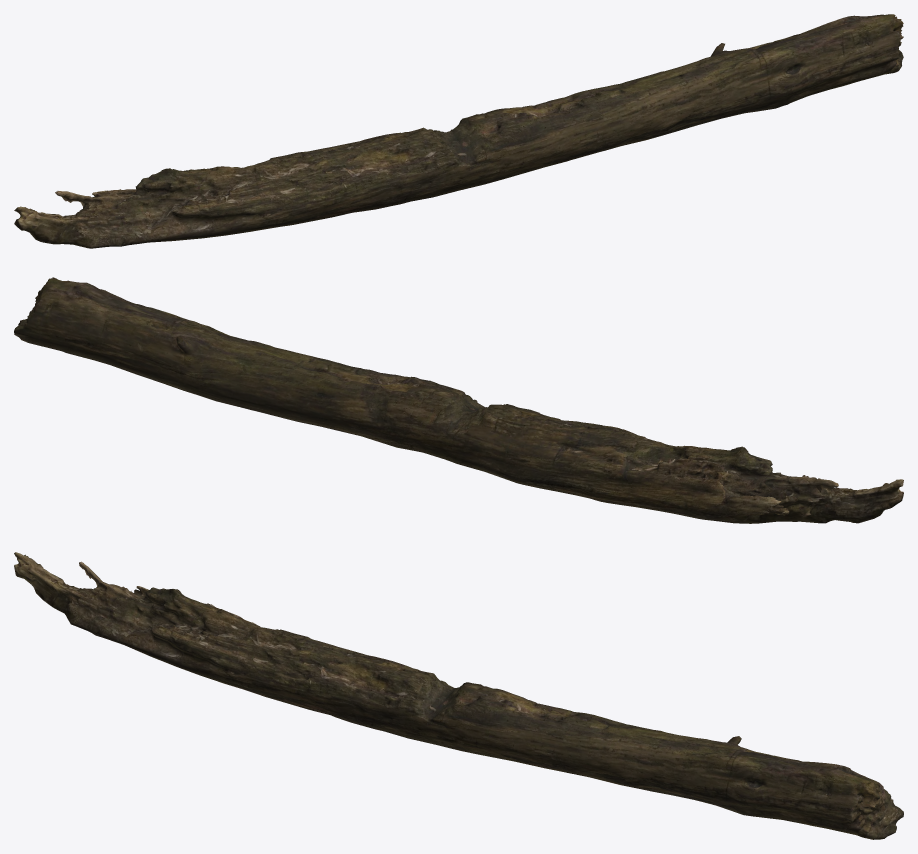
File: dead_tree_trunk.glb
3 views of the same model, one above another, from view 1: azimuth 30°, elevation 25°; view 2: azimuth 150°, elevation 25°; view 3: azimuth 330°, elevation 25° (orthographic).
Parts seen in each view (by area): view 1: dead_tree_trunk; view 2: dead_tree_trunk; view 3: dead_tree_trunk.
Boxes of the visible parts, x1,y1,x2,y2 form: dead_tree_trunk: (14,14,903,248); dead_tree_trunk: (14,277,903,523); dead_tree_trunk: (14,552,903,839).
Bounding box in the file's own units: 3.05 × 0.2899 × 0.2775.
1 material, 1 textured.
